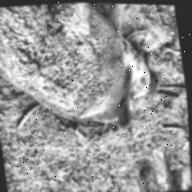boar: (0, 0, 176, 143)
